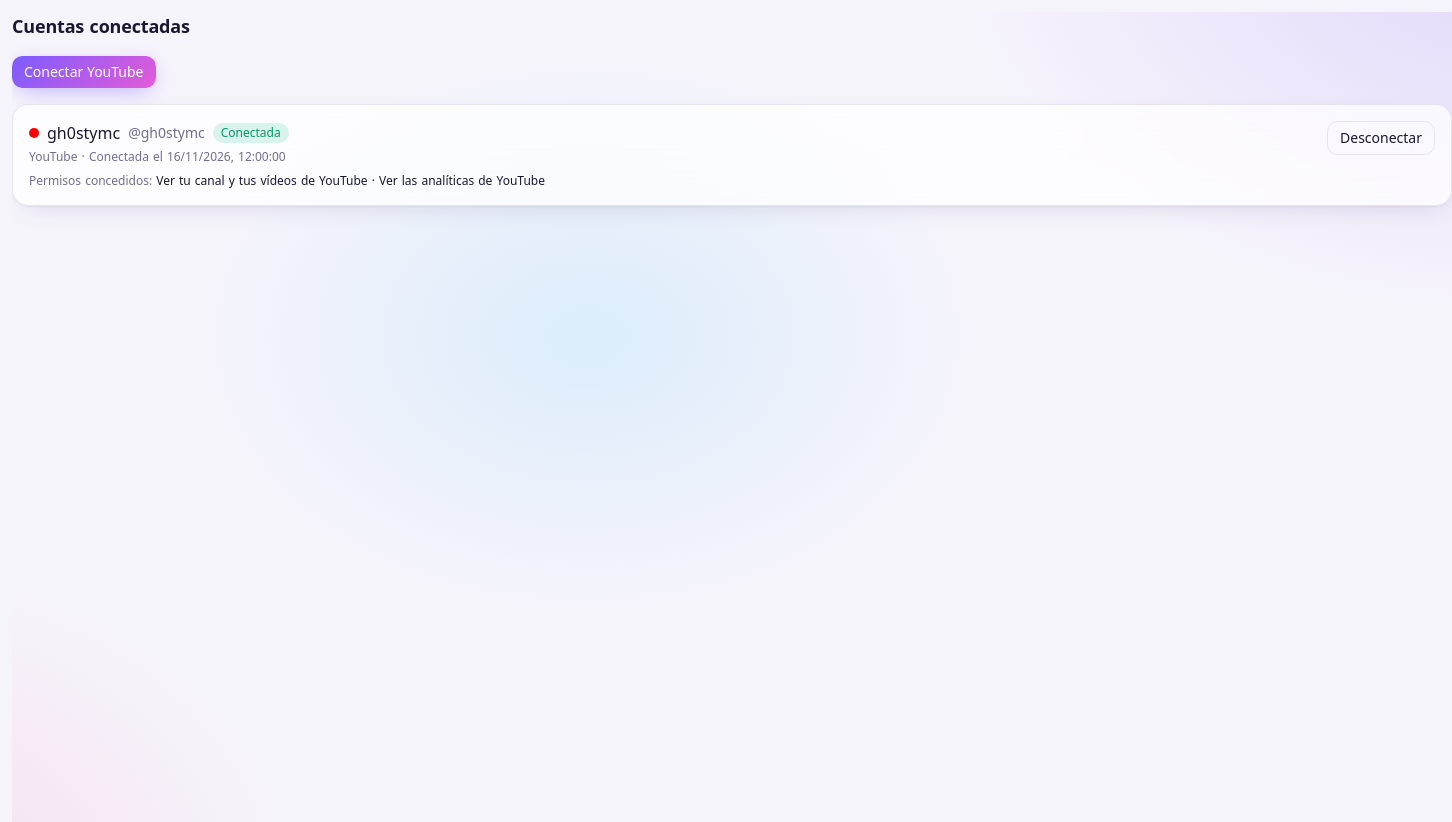
it: AccountsSection › connects and can cancel while waiting for the browser
Click the button "Conectar YouTube" at (84, 72), box [12,56,156,88]
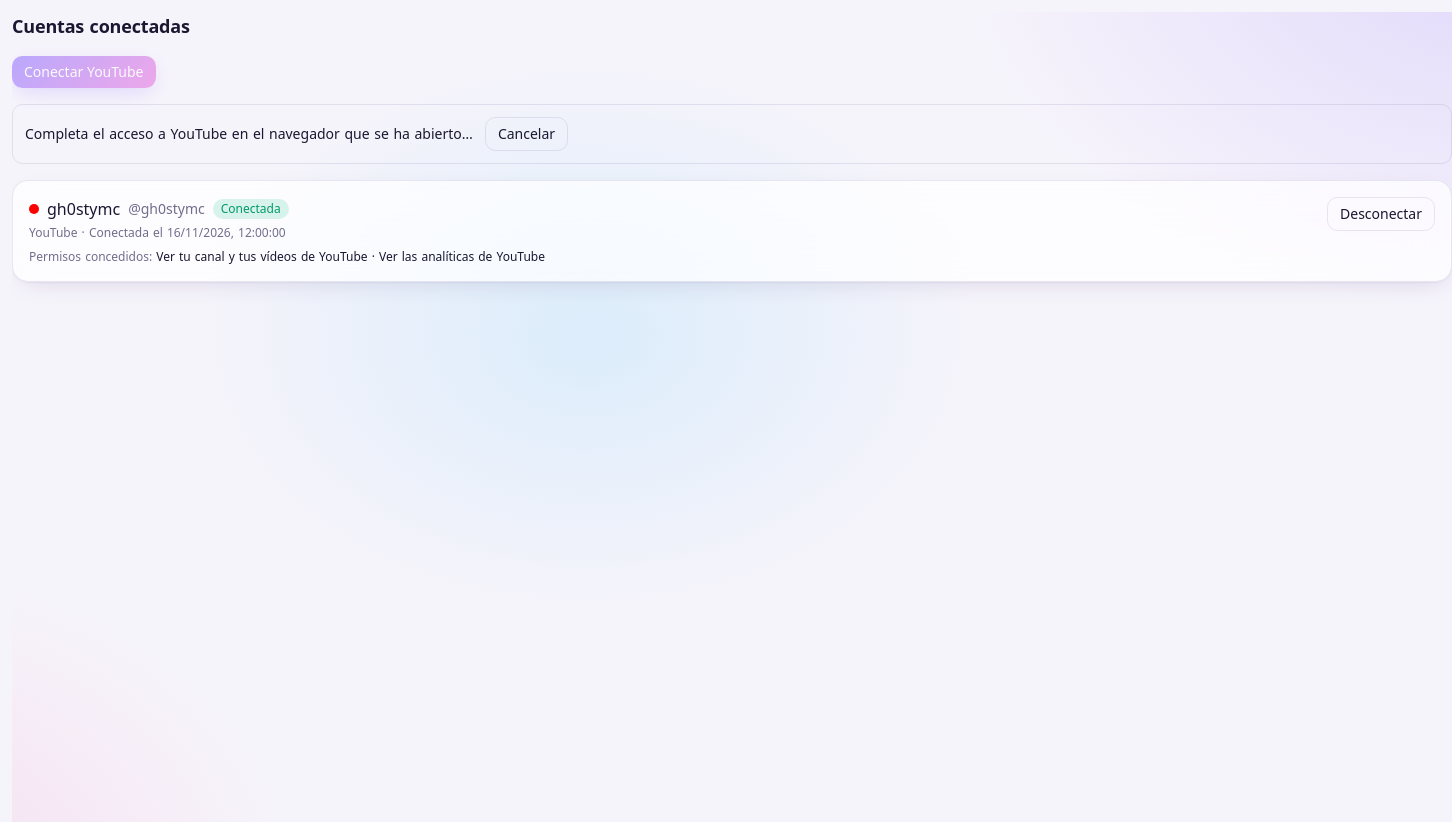
Expected: the text "navegador" is shown, [25,124,473,143]
Click the button "Cancelar" at (526, 134), box [485,117,568,151]
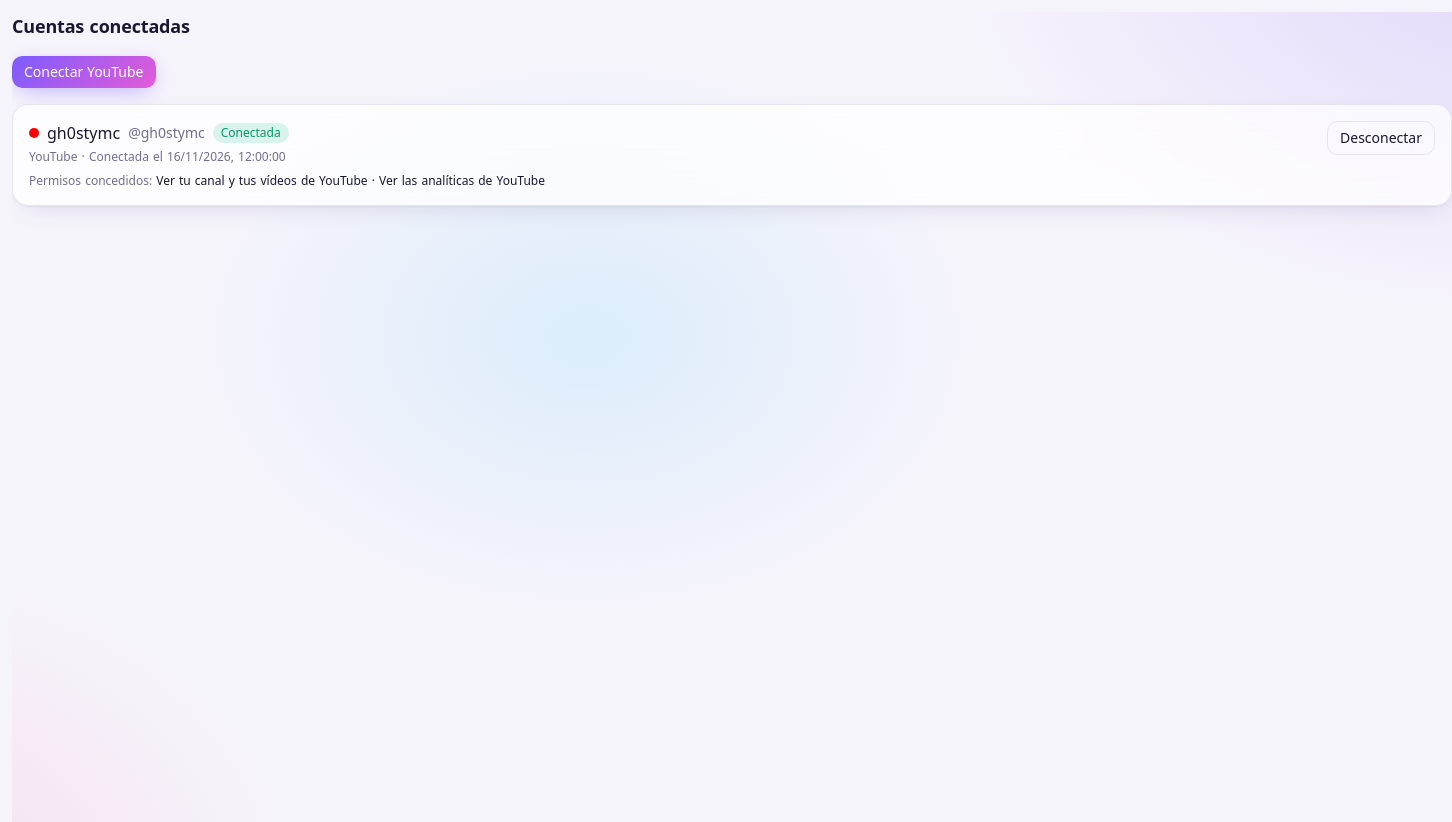
Expected: the text "navegador" is gone
